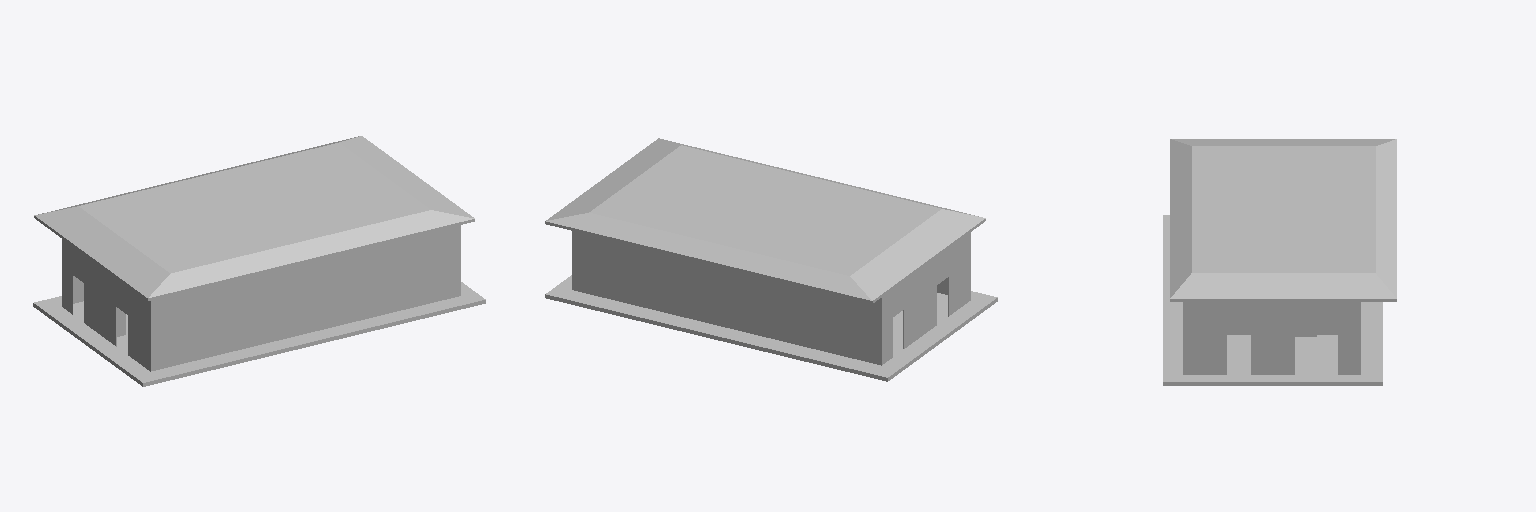
File: museo_prof_remake.obj
3 views of the same model, side by side, from view 1: azimuth 30°, elevation 25°; view 2: azimuth 150°, elevation 25°; view 3: azimuth 270°, elevation 25° (orthographic).
Parts seen in each view (by area): view 1: ROOF_Cube.049, Cube.002, FLOOR_Cube, Cube.010, Cube.008, Cube.011, Cube.012; view 2: ROOF_Cube.049, Cube.001, FLOOR_Cube, Cube.008, Cube.010, Cube.012, Cube.011; view 3: ROOF_Cube.049, FLOOR_Cube, Cube.003, Cube.004, Cube.005, Cube.006, Cube.007.
Boxes of the visible parts, x1,y1,x2,y2 form: ROOF_Cube.049: [34, 136, 474, 300]; Cube.002: [150, 225, 460, 371]; FLOOR_Cube: [33, 282, 485, 386]; Cube.010: [94, 262, 116, 346]; Cube.008: [128, 287, 149, 370]; Cube.011: [62, 239, 72, 314]; Cube.012: [84, 255, 93, 329]; ROOF_Cube.049: [545, 138, 985, 303]; Cube.001: [572, 231, 881, 365]; FLOOR_Cube: [545, 275, 997, 381]; Cube.008: [948, 232, 970, 316]; Cube.010: [915, 257, 936, 340]; Cube.012: [903, 273, 914, 348]; Cube.011: [882, 289, 892, 364]; ROOF_Cube.049: [1170, 139, 1396, 301]; FLOOR_Cube: [1163, 215, 1382, 385]; Cube.003: [1183, 302, 1226, 374]; Cube.004: [1251, 302, 1294, 374]; Cube.005: [1338, 302, 1359, 374]; Cube.006: [1295, 302, 1338, 334]; Cube.007: [1227, 302, 1250, 334].
Bounding box in the file's own units: 9 × 2.33 × 5.33.